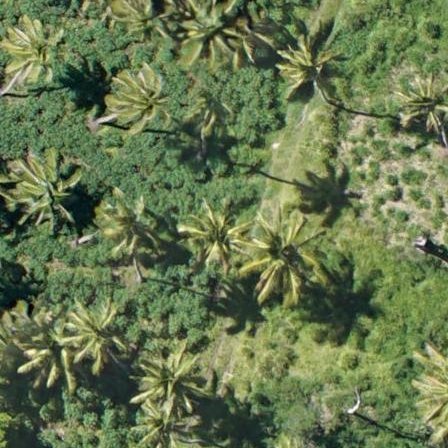palm_tree: (4, 140, 87, 229), (241, 207, 323, 294), (1, 14, 73, 90), (58, 292, 129, 367), (280, 30, 349, 103), (107, 65, 172, 137), (184, 1, 253, 66), (391, 67, 448, 145), (179, 205, 249, 265), (137, 354, 203, 416)
